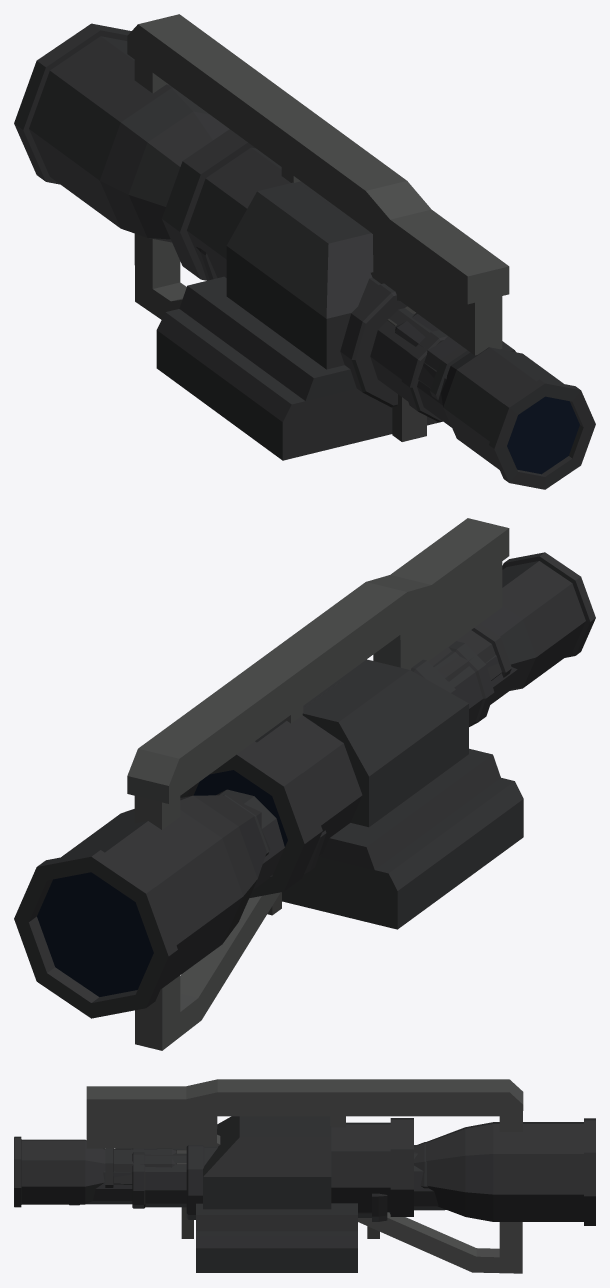
The model's file is mods.glb.
The picture shows the model from 3 angles, top to bottom: view 1: azimuth 30°, elevation 25°; view 2: azimuth 150°, elevation 25°; view 3: azimuth 270°, elevation 25°; orthographic projection. The views are drawn at different scales.
Visible parts, largest first — view 1: Flashlight, Scope_3, Stock, Silencer_Short, Silencer_2, Scope_2, Silencer_long; view 2: Flashlight, Scope_3, Stock, Silencer_2, Scope_2, Silencer_Short; view 3: Flashlight, Stock, Scope_3, Silencer_2, Scope_2, Silencer_Short, Silencer_long.
Part boxes in pixels (<box>): Flashlight: <box>156,129,515,460</box>; Scope_3: <box>14,23,595,489</box>; Stock: <box>127,14,509,355</box>; Silencer_Short: <box>196,247,406,407</box>; Silencer_2: <box>370,308,447,422</box>; Scope_2: <box>395,313,470,399</box>; Silencer_long: <box>417,362,451,427</box>; Flashlight: <box>180,659,523,929</box>; Scope_3: <box>14,552,595,1018</box>; Stock: <box>127,518,509,1050</box>; Silencer_2: <box>216,641,494,889</box>; Scope_2: <box>223,623,511,856</box>; Silencer_Short: <box>304,659,457,873</box>; Flashlight: <box>196,1116,413,1272</box>; Stock: <box>86,1079,523,1273</box>; Scope_3: <box>14,1118,595,1238</box>; Silencer_2: <box>132,1145,445,1210</box>; Scope_2: <box>105,1142,428,1188</box>; Silencer_Short: <box>186,1145,387,1221</box>; Silencer_long: <box>69,1171,132,1205</box>.
Bounding box in the file's own units: 0.0981 × 0.1114 × 0.32.
